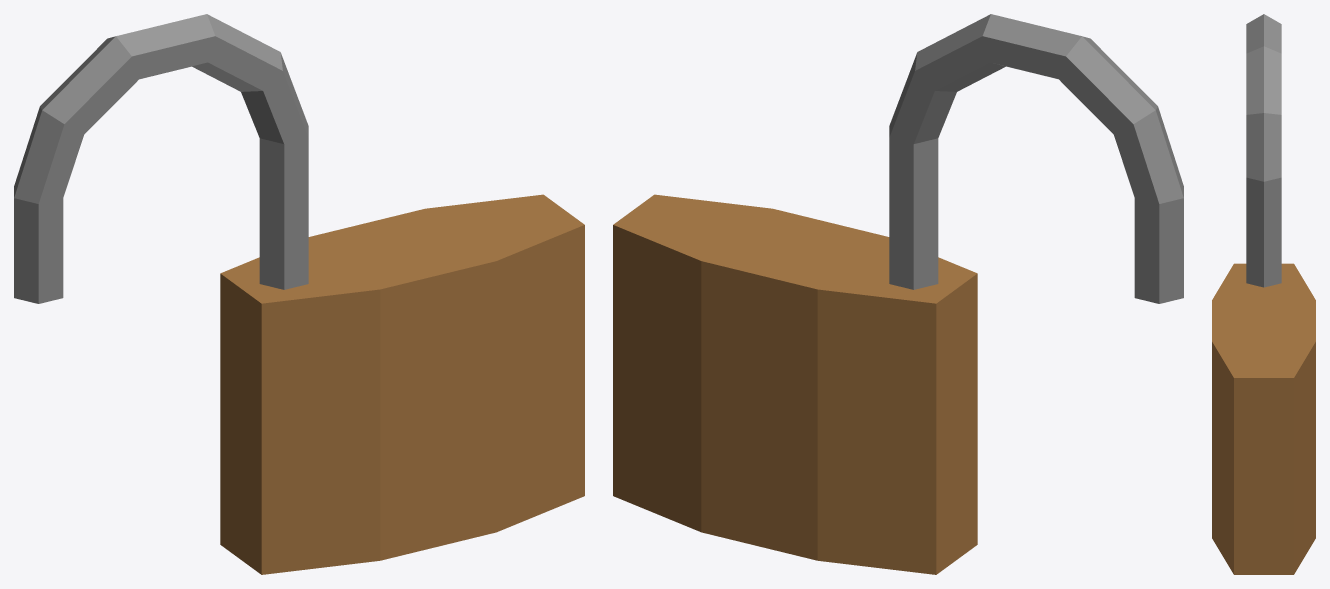
Rendered from SM_Icon_Lock_Open_01.fbx.
3 views of the same model, side by side, from view 1: azimuth 30°, elevation 25°; view 2: azimuth 150°, elevation 25°; view 3: azimuth 270°, elevation 25° (orthographic). The views are drawn at different scales.
Parts seen in each view (by area): view 1: SM_Icon_Lock_Open_01; view 2: SM_Icon_Lock_Open_01; view 3: SM_Icon_Lock_Open_01.
Part boxes in pixels (x1,y1,x2,y2): SM_Icon_Lock_Open_01: (14,14,584,574); SM_Icon_Lock_Open_01: (613,14,1183,574); SM_Icon_Lock_Open_01: (1212,14,1315,574).
Bounding box in the file's own units: 56.12 × 54.02 × 12.64.
